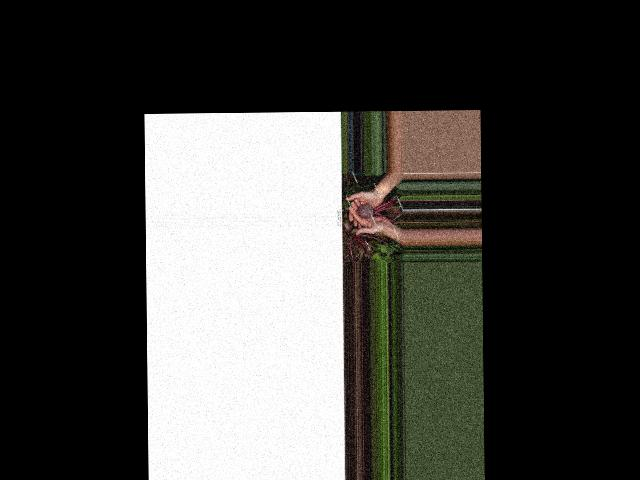beet: (355, 194, 401, 222)
